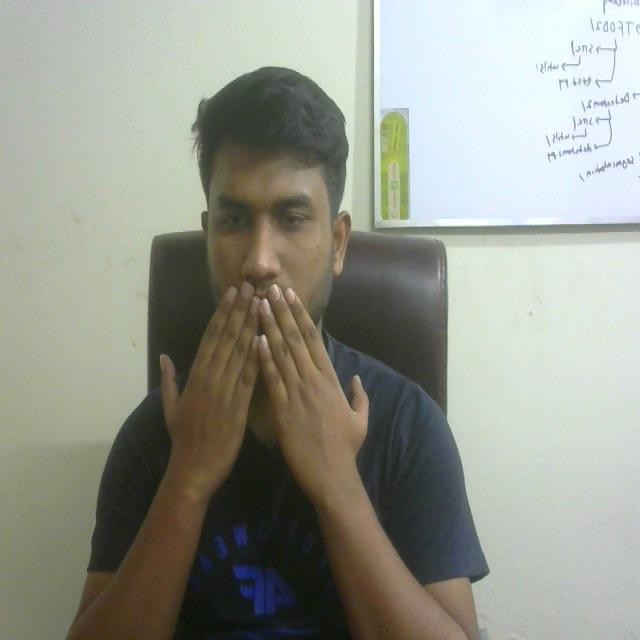Hello: (133, 280, 381, 483)
